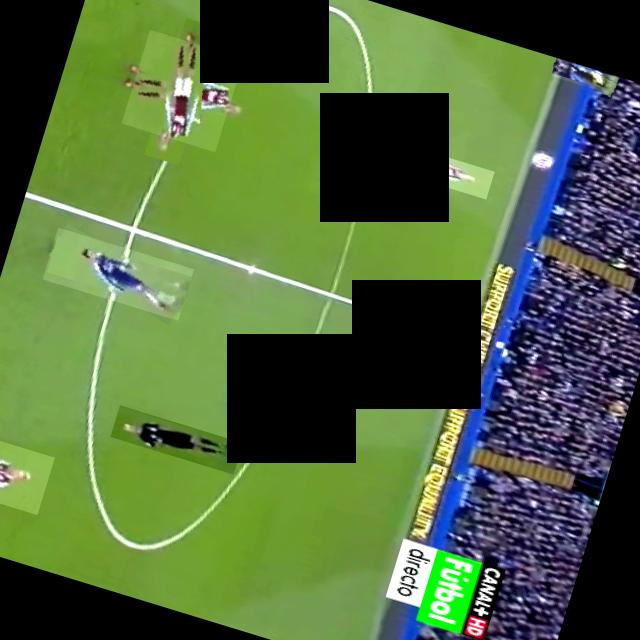referee: (109, 405, 242, 474), (550, 58, 618, 94)
soccer-player: (120, 29, 242, 151), (40, 227, 192, 320), (387, 141, 493, 199), (0, 426, 53, 514)
